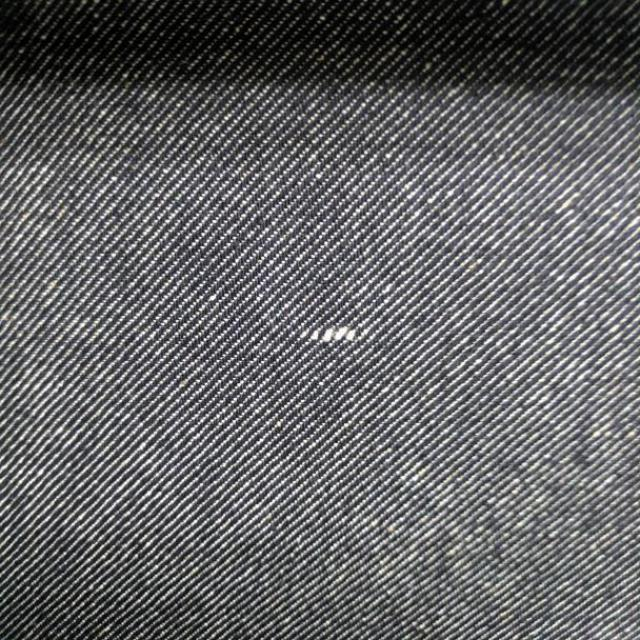Knot: (300, 326, 366, 343)
